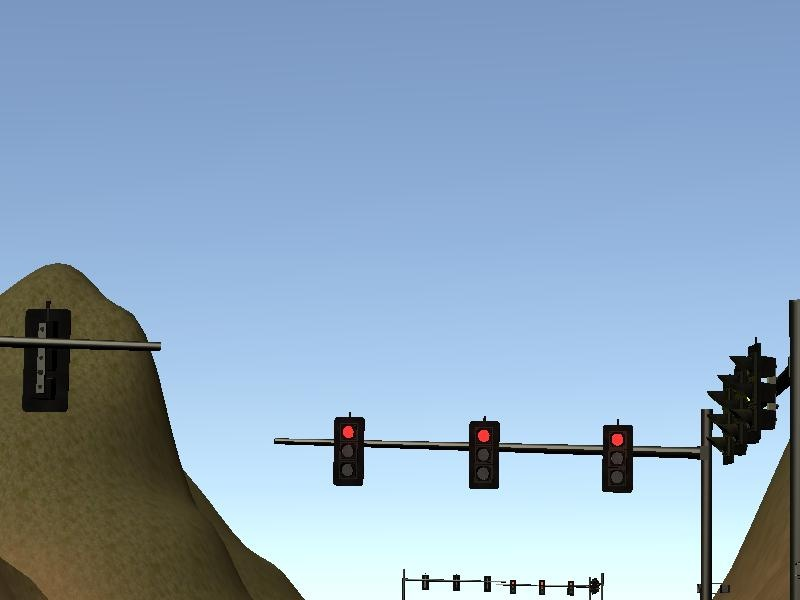red: (330, 411, 369, 488), (466, 417, 503, 494), (600, 420, 636, 497)
